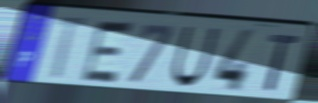4: (211, 28, 258, 94)
7: (129, 21, 177, 87)
E: (78, 19, 138, 86)
T: (49, 14, 93, 83), (264, 32, 303, 94)
U: (169, 24, 221, 90)
